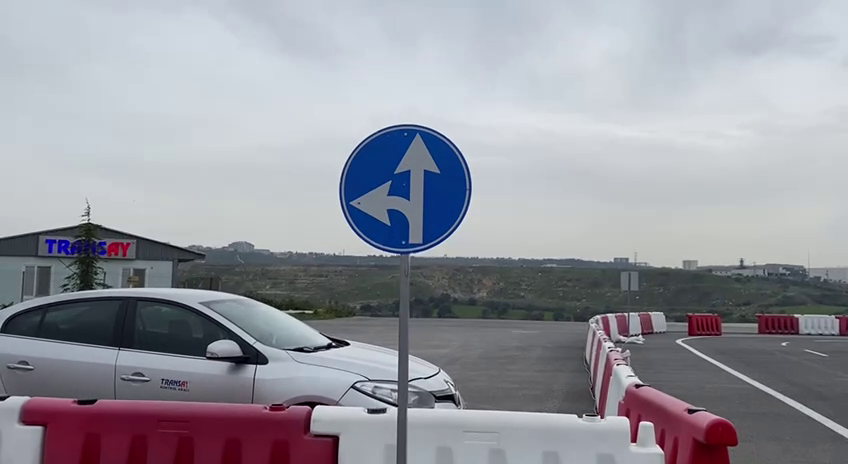forwardAndLeft: (337, 120, 477, 256)
